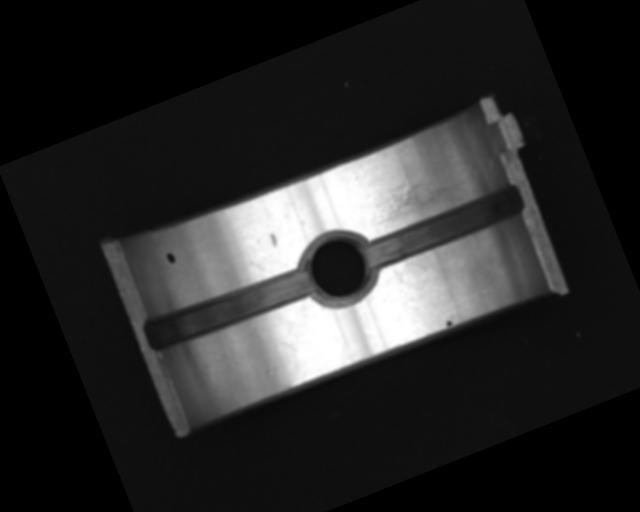blot: (165, 250, 177, 266), (444, 317, 455, 329)
bruise: (267, 231, 279, 248)
gap: (139, 257, 318, 358), (359, 181, 528, 274)
hole: (291, 219, 384, 317)
scratch: (361, 165, 472, 235)
